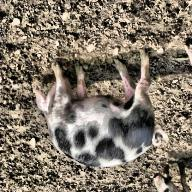boar: (33, 48, 169, 168), (153, 162, 192, 192), (183, 42, 192, 65)
